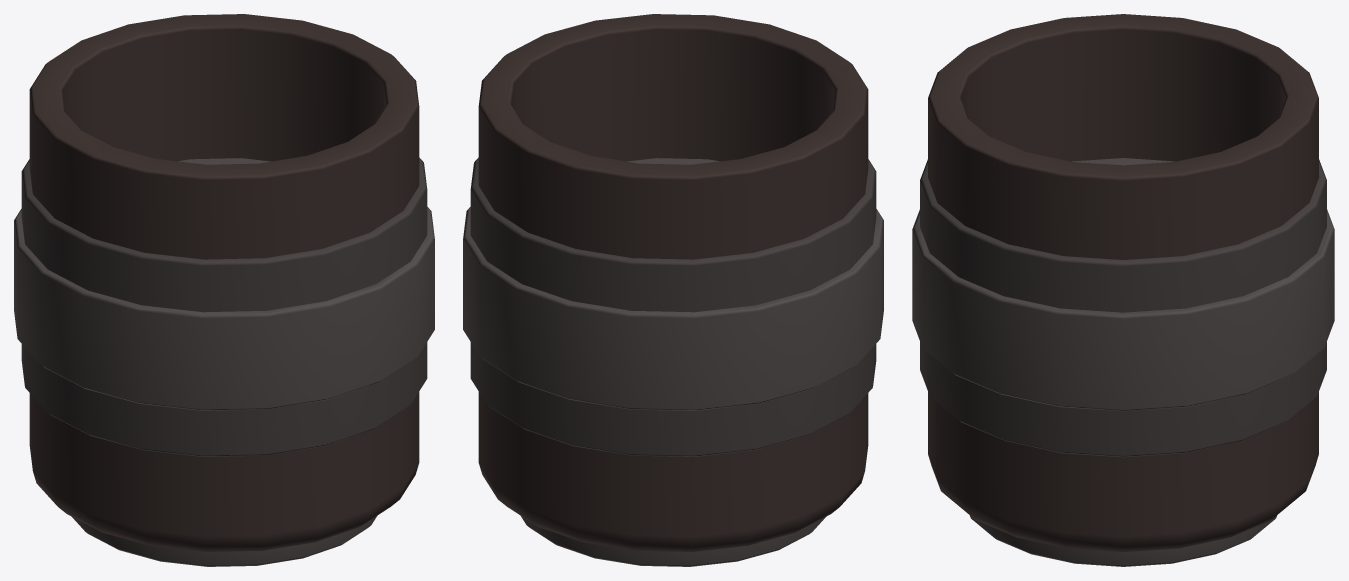
The model's file is meltingpot_002_003.fbx.
3 renders of one model, left to right at view 1: azimuth 30°, elevation 25°; view 2: azimuth 150°, elevation 25°; view 3: azimuth 270°, elevation 25°, orthographic.
Parts seen in each view (by area): view 1: meltingpot_002_003; view 2: meltingpot_002_003; view 3: meltingpot_002_003.
Boxes of the visible parts, left/top/right/bottom form: meltingpot_002_003: left=14, top=14, right=434, bottom=566; meltingpot_002_003: left=463, top=14, right=883, bottom=566; meltingpot_002_003: left=912, top=14, right=1334, bottom=566.
Bounding box in the file's own units: 704 × 704 × 745.
